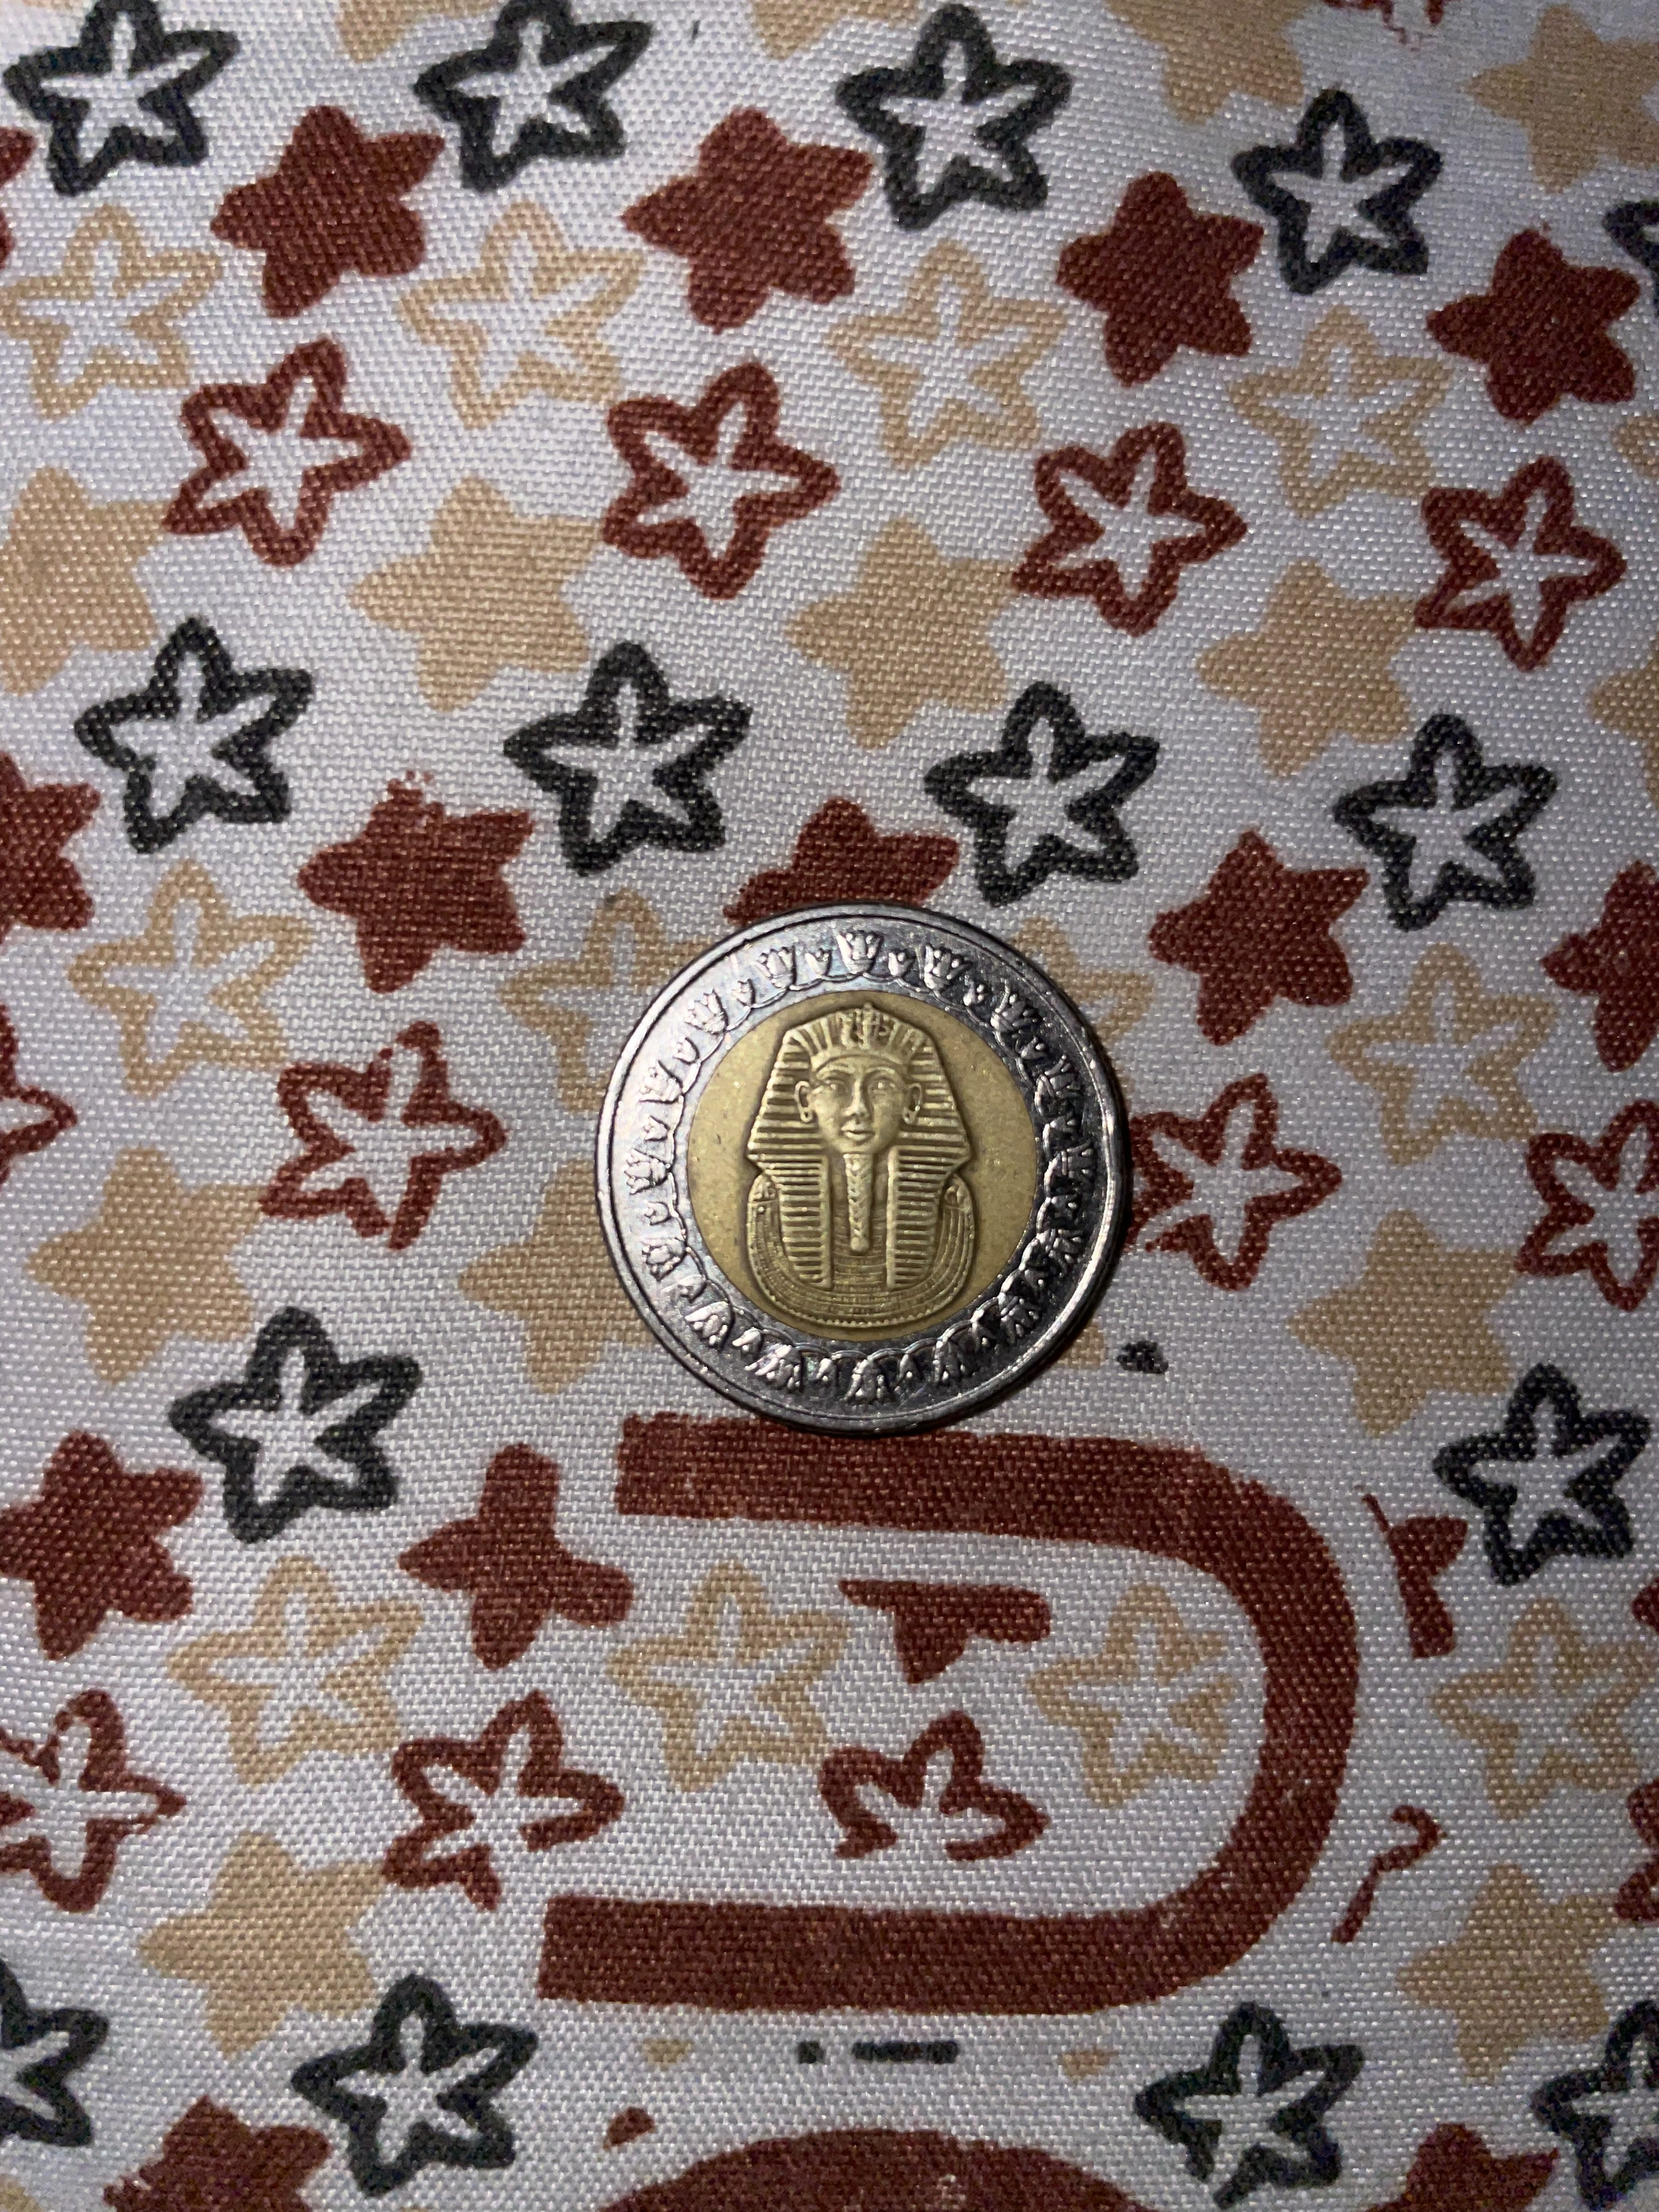one: (591, 897, 1126, 1433)
